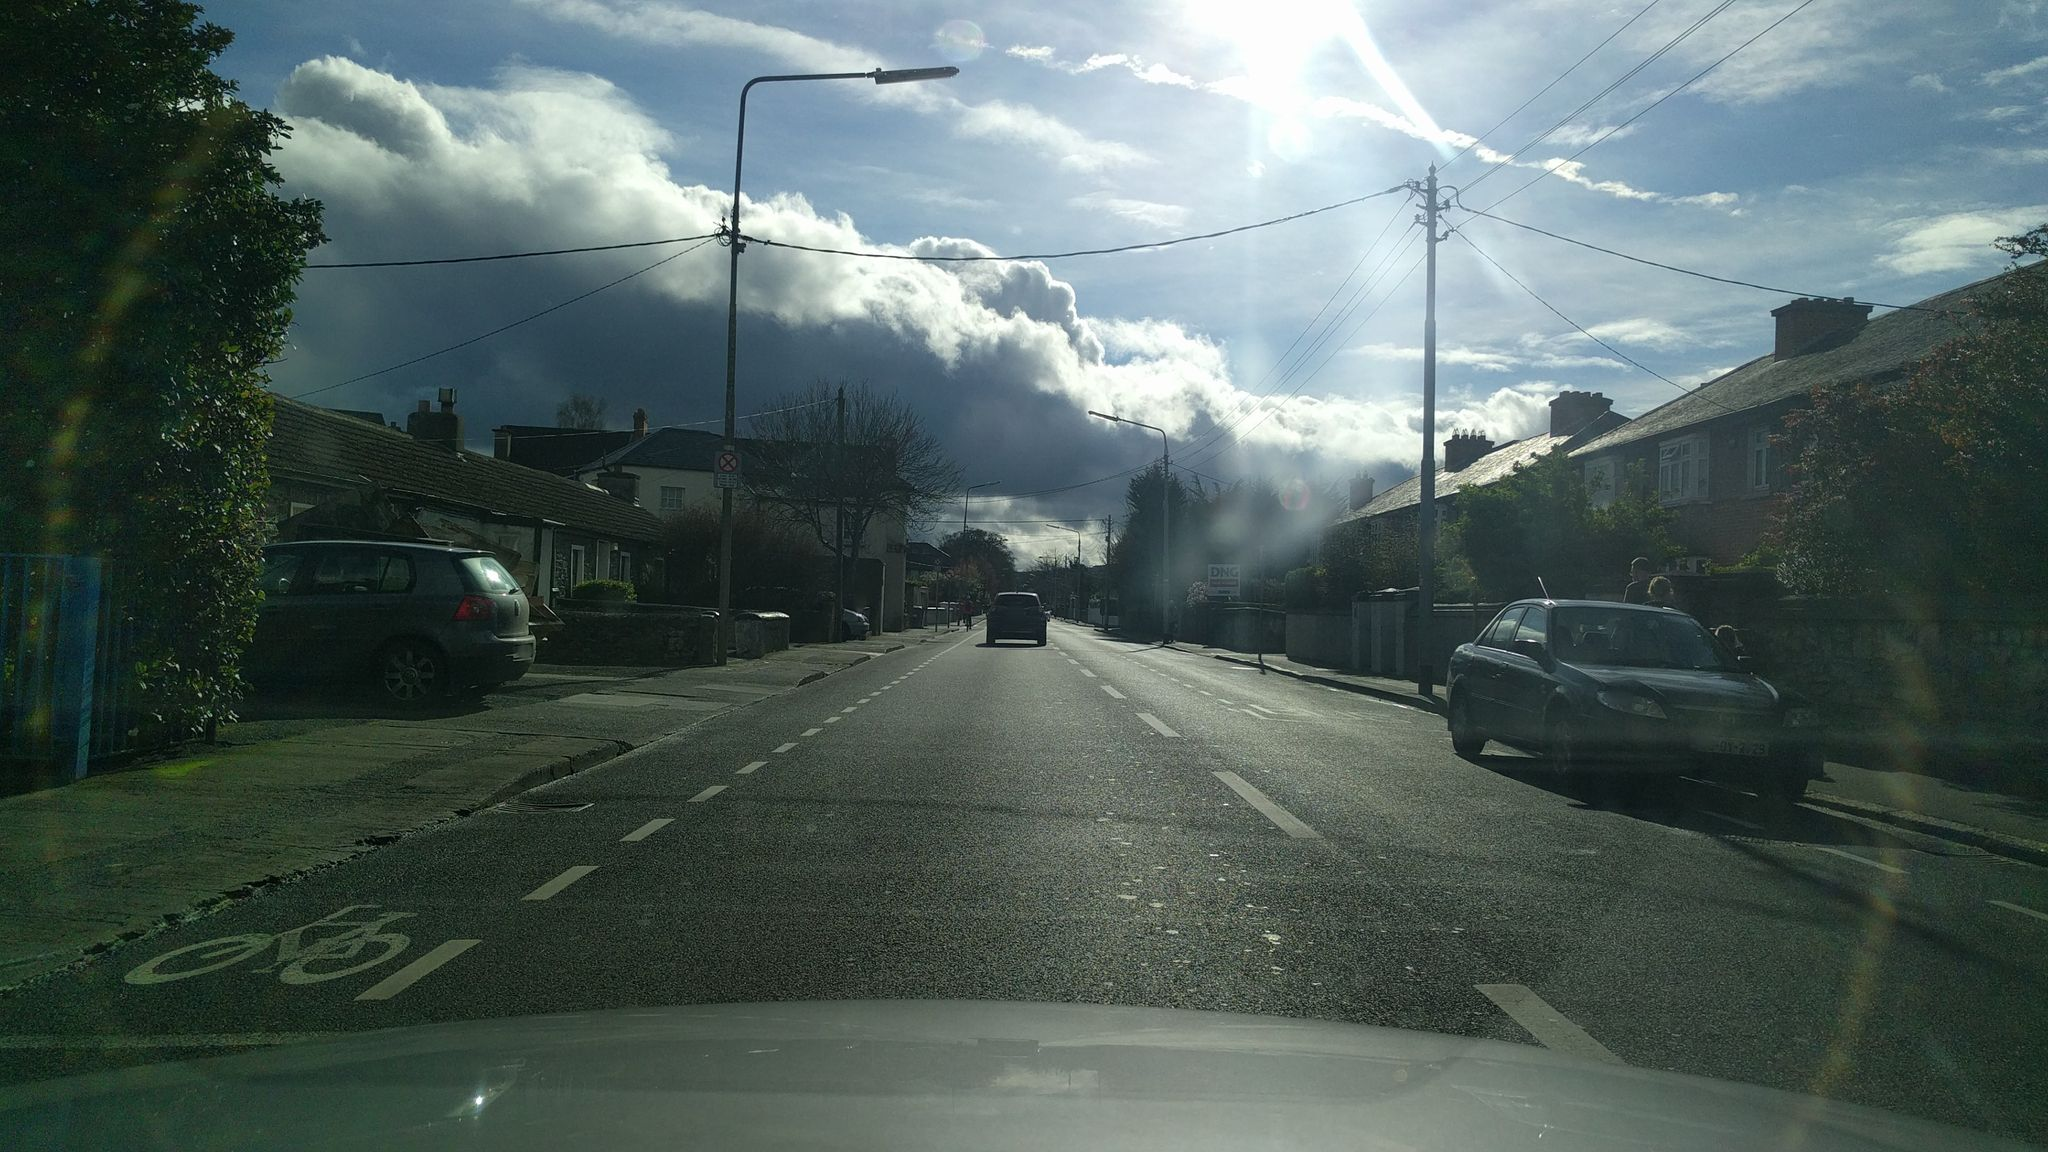property sign: (1193, 549, 1249, 603)
